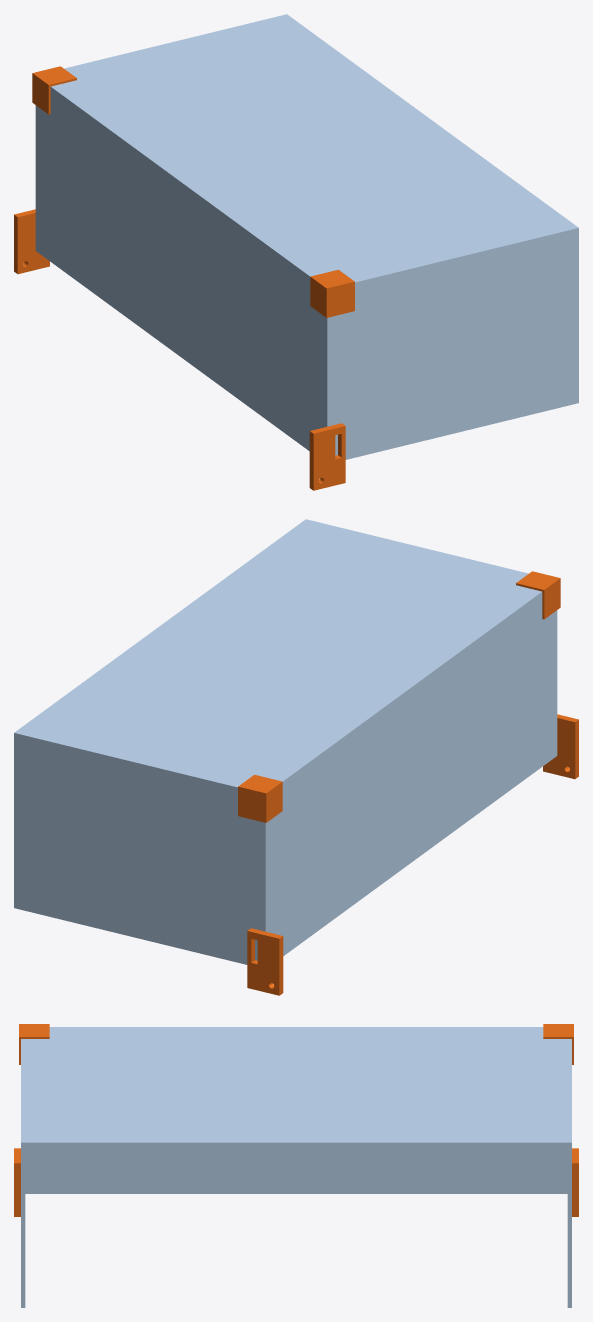
The model's file is cover_L.glb.
3 views of the same model, one above another, from view 1: azimuth 30°, elevation 25°; view 2: azimuth 150°, elevation 25°; view 3: azimuth 270°, elevation 25° (orthographic). The views are drawn at different scales.
Visible parts, largest first — view 1: dockCOVER_L, dockCOVER_arm_L+, dockCOVER_corner_L+, dockCOVER_arm_L-, dockCOVER_corner_L-; view 2: dockCOVER_L, dockCOVER_arm_L-, dockCOVER_corner_L-, dockCOVER_arm_L+, dockCOVER_corner_L+; view 3: dockCOVER_L, dockCOVER_corner_L+, dockCOVER_corner_L-, dockCOVER_arm_L+, dockCOVER_arm_L-.
Part boxes in pixels (left/top/right/bottom): dockCOVER_L: left=35, top=14, right=578, bottom=459; dockCOVER_arm_L+: left=309, top=423, right=345, bottom=490; dockCOVER_corner_L+: left=310, top=269, right=354, bottom=317; dockCOVER_arm_L-: left=14, top=209, right=49, bottom=274; dockCOVER_corner_L-: left=32, top=66, right=76, bottom=114; dockCOVER_L: left=14, top=519, right=557, bottom=964; dockCOVER_arm_L-: left=247, top=928, right=283, bottom=995; dockCOVER_corner_L-: left=238, top=774, right=282, bottom=822; dockCOVER_arm_L+: left=543, top=714, right=578, bottom=779; dockCOVER_corner_L+: left=516, top=571, right=560, bottom=619; dockCOVER_L: left=21, top=1027, right=571, bottom=1307; dockCOVER_corner_L+: left=19, top=1024, right=49, bottom=1064; dockCOVER_corner_L-: left=543, top=1024, right=573, bottom=1064; dockCOVER_arm_L+: left=14, top=1148, right=20, bottom=1216; dockCOVER_arm_L-: left=572, top=1148, right=578, bottom=1216.
Bounding box in the file's own units: 410 × 286 × 790.
